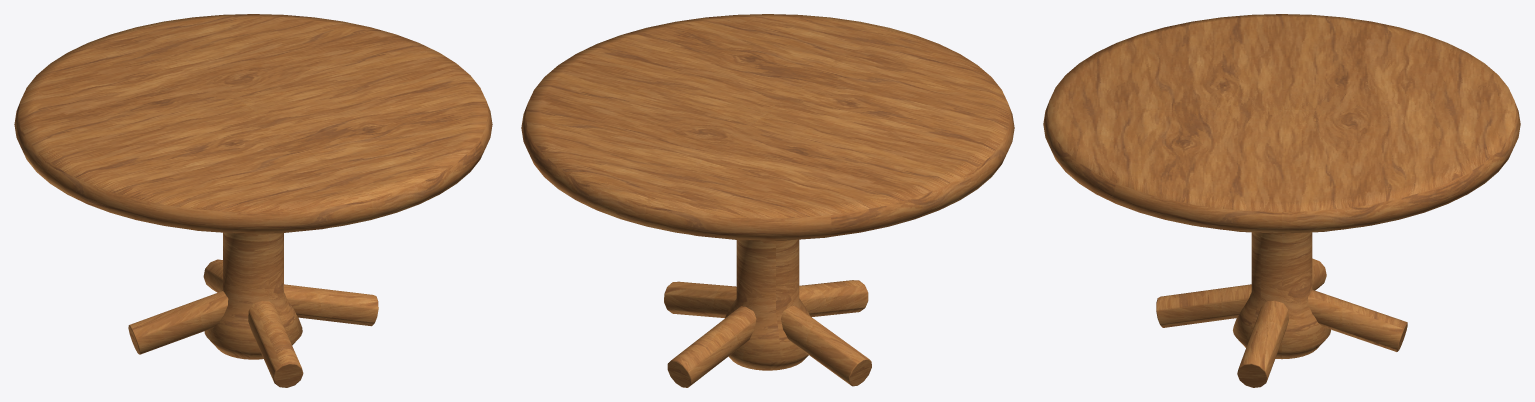
Rendered from WC_CAFE_Calibration_Table_A.glb.
The picture shows the model from 3 angles, left to right: view 1: azimuth 30°, elevation 25°; view 2: azimuth 150°, elevation 25°; view 3: azimuth 270°, elevation 25°; orthographic projection. The views are drawn at different scales.
Parts seen in each view (by area): view 1: AuthoredRoundedTop, TurnedPedestal, ShapedSplayedFoot.002, ShapedSplayedFoot, ShapedSplayedFoot.001, ShapedSplayedFoot.003; view 2: AuthoredRoundedTop, TurnedPedestal, ShapedSplayedFoot.002, ShapedSplayedFoot.003, ShapedSplayedFoot, ShapedSplayedFoot.001; view 3: AuthoredRoundedTop, TurnedPedestal, ShapedSplayedFoot.003, ShapedSplayedFoot.001, ShapedSplayedFoot.
Part boxes in pixels (left/top/right/bottom): AuthoredRoundedTop: left=14, top=14, right=492, bottom=233; TurnedPedestal: left=204, top=232, right=302, bottom=359; ShapedSplayedFoot.002: left=128, top=291, right=228, bottom=354; ShapedSplayedFoot: left=284, top=284, right=378, bottom=326; ShapedSplayedFoot.001: left=248, top=301, right=303, bottom=387; ShapedSplayedFoot.003: left=203, top=259, right=222, bottom=292; AuthoredRoundedTop: left=521, top=14, right=1014, bottom=240; TurnedPedestal: left=725, top=239, right=809, bottom=370; ShapedSplayedFoot.002: left=781, top=305, right=871, bottom=386; ShapedSplayedFoot.003: left=667, top=306, right=756, bottom=387; ShapedSplayedFoot: left=664, top=281, right=736, bottom=317; ShapedSplayedFoot.001: left=799, top=280, right=868, bottom=317; AuthoredRoundedTop: left=1043, top=14, right=1520, bottom=232; TurnedPedestal: left=1233, top=232, right=1330, bottom=359; ShapedSplayedFoot.003: left=1308, top=289, right=1407, bottom=351; ShapedSplayedFoot.001: left=1156, top=284, right=1251, bottom=327; ShapedSplayedFoot: left=1237, top=300, right=1288, bottom=387.
Size of the model in its own units: 1.65 by 0.89 by 1.65.
3 materials, 3 textured.
